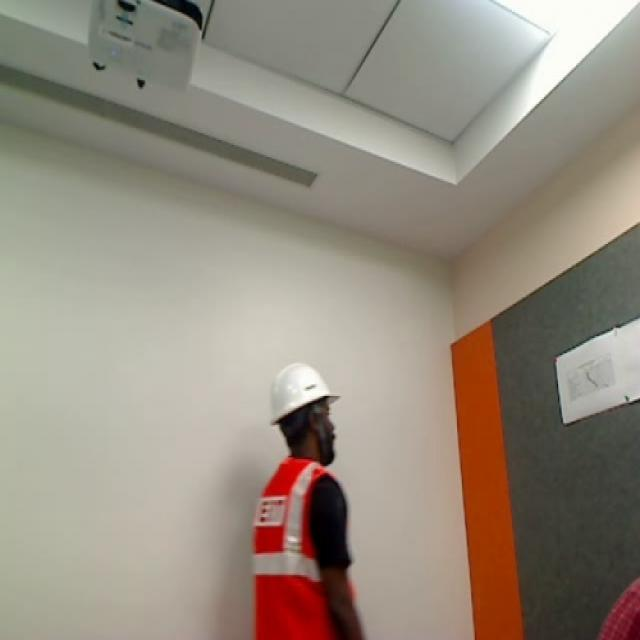safety_helmet: (249, 455, 359, 640)
